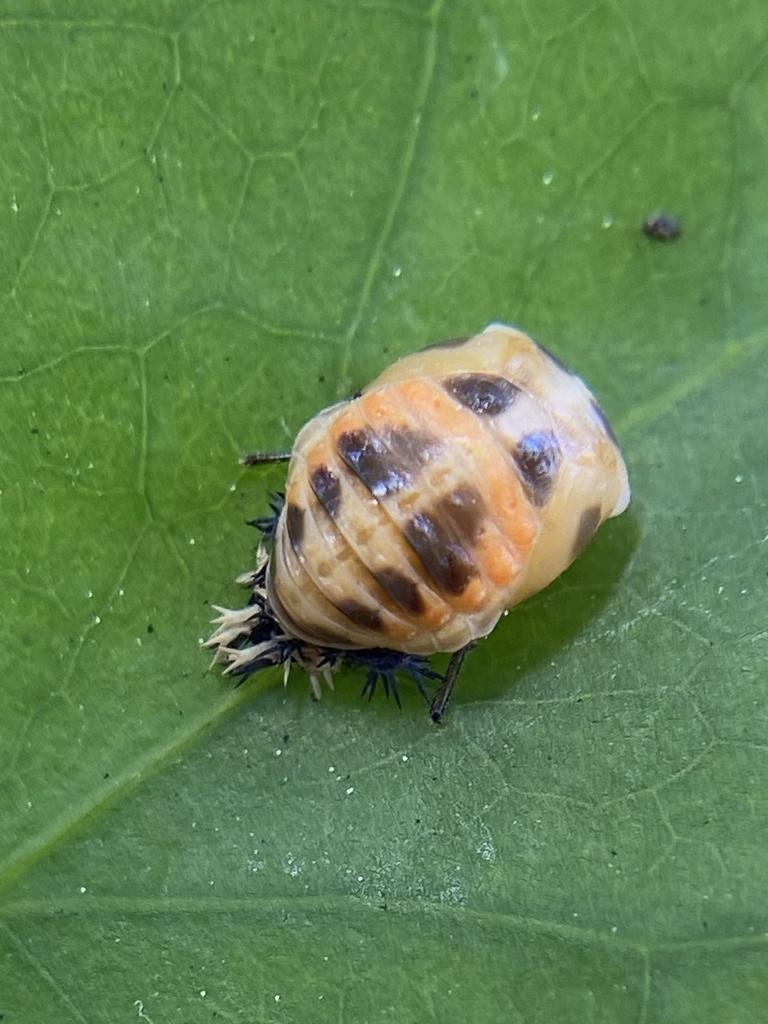ladybug: (195, 319, 639, 723)
